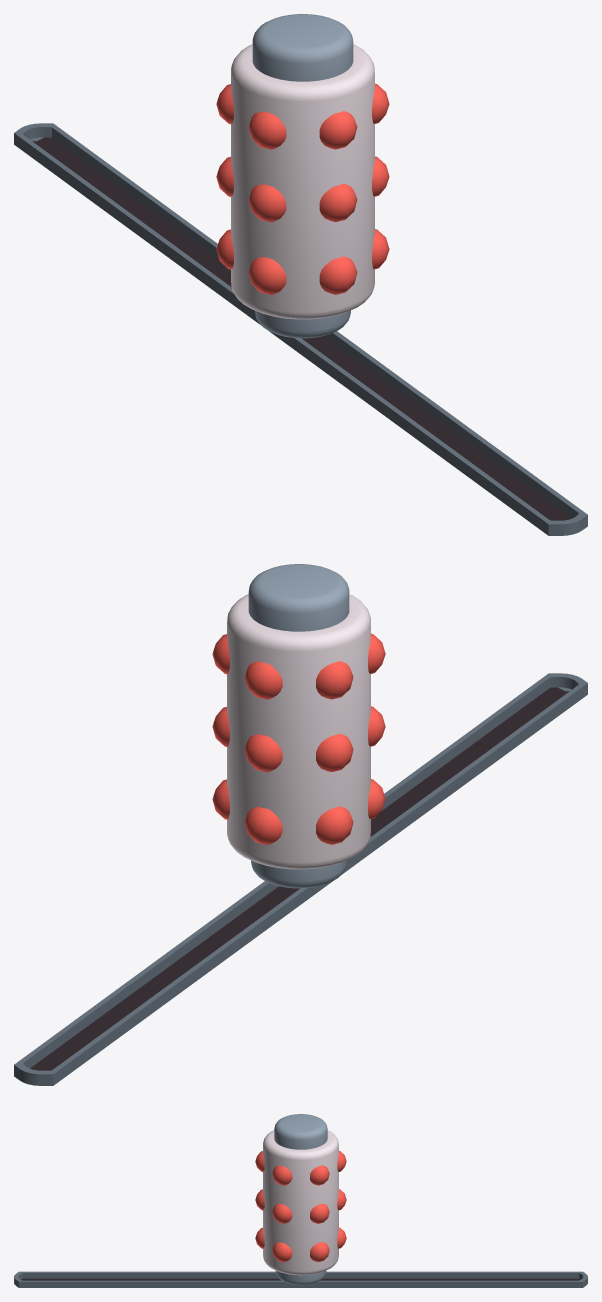
The model's file is Grinder02.fbx.
3 views of the same model, one above another, from view 1: azimuth 30°, elevation 25°; view 2: azimuth 150°, elevation 25°; view 3: azimuth 270°, elevation 25° (orthographic). The views are drawn at different scales.
Visible parts, largest first — view 1: Grinder.001, Saw_Base.003; view 2: Grinder.001, Saw_Base.003; view 3: Grinder.001, Saw_Base.003.
Part boxes in pixels (x1=…): Grinder.001: x1=216, y1=14, x2=389, y2=338; Saw_Base.003: x1=14, y1=123, x2=587, y2=535; Grinder.001: x1=212, y1=564, x2=385, y2=888; Saw_Base.003: x1=14, y1=673, x2=587, y2=1085; Grinder.001: x1=255, y1=1114, x2=346, y2=1285; Saw_Base.003: x1=14, y1=1271, x2=587, y2=1287.
Bounding box in the file's own units: 122 × 261 × 848.
